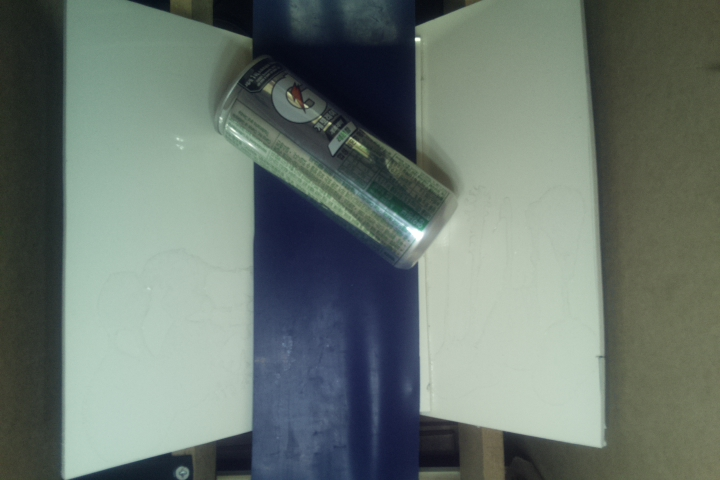can: (211, 52, 457, 270)
